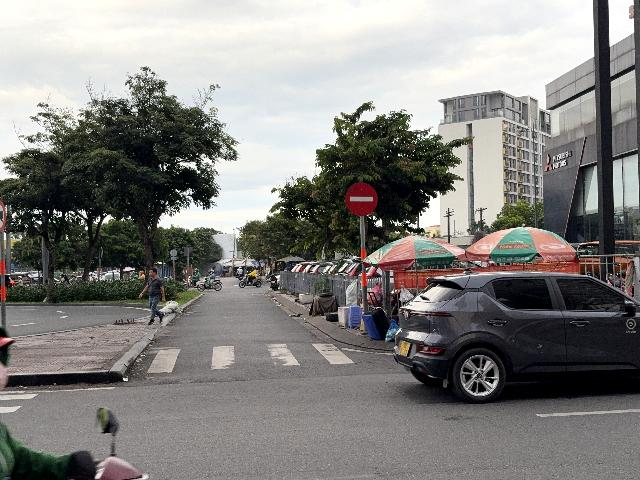cam-di-nguoc-chieu: (345, 182, 377, 217)
